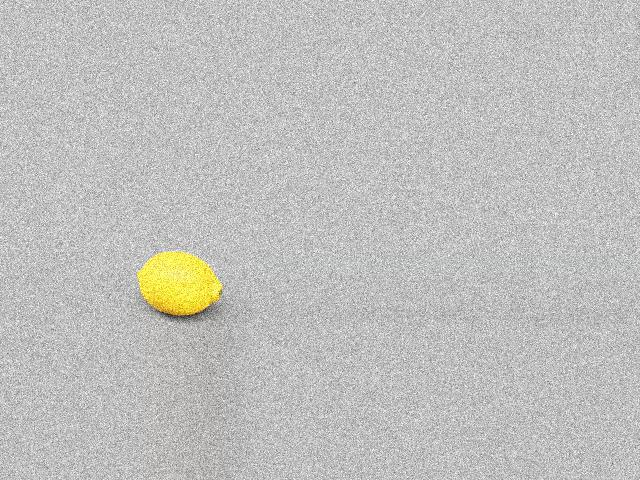lemon: (128, 246, 243, 316)
